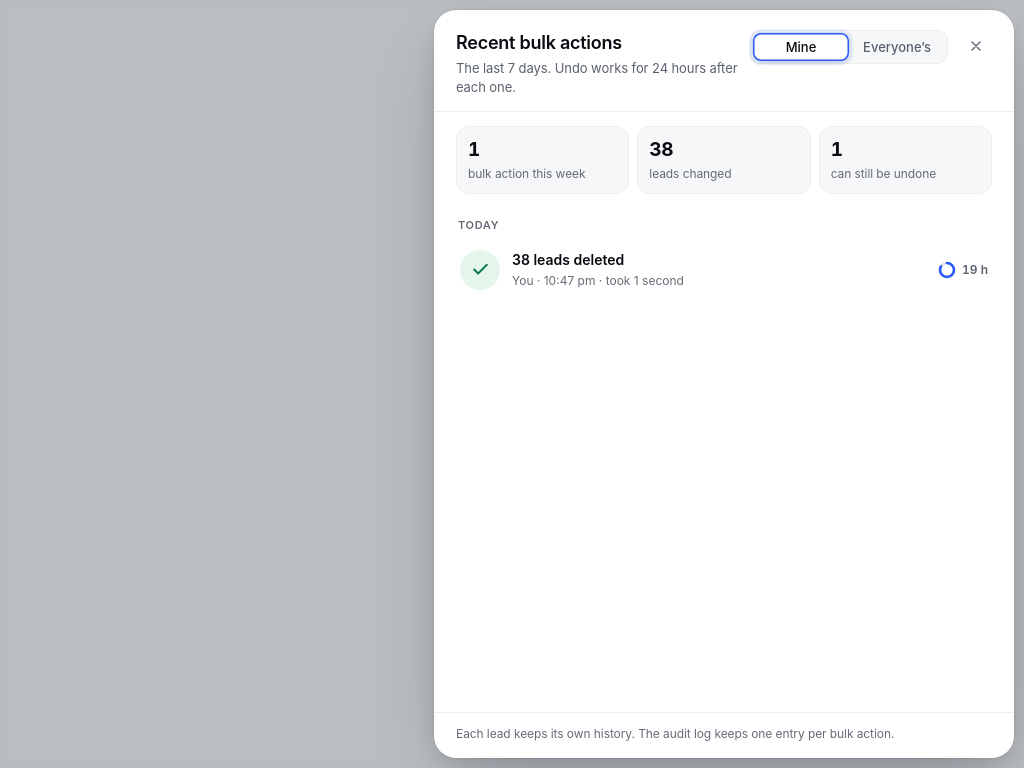
Test: recent bulk actions (7C) › Everyone's shows other people's runs to someone with bulk edits over all leads, and isn't offered to a rep
Click the radio button labelled "Everyone’s": (897, 47) [849,33,945,61]
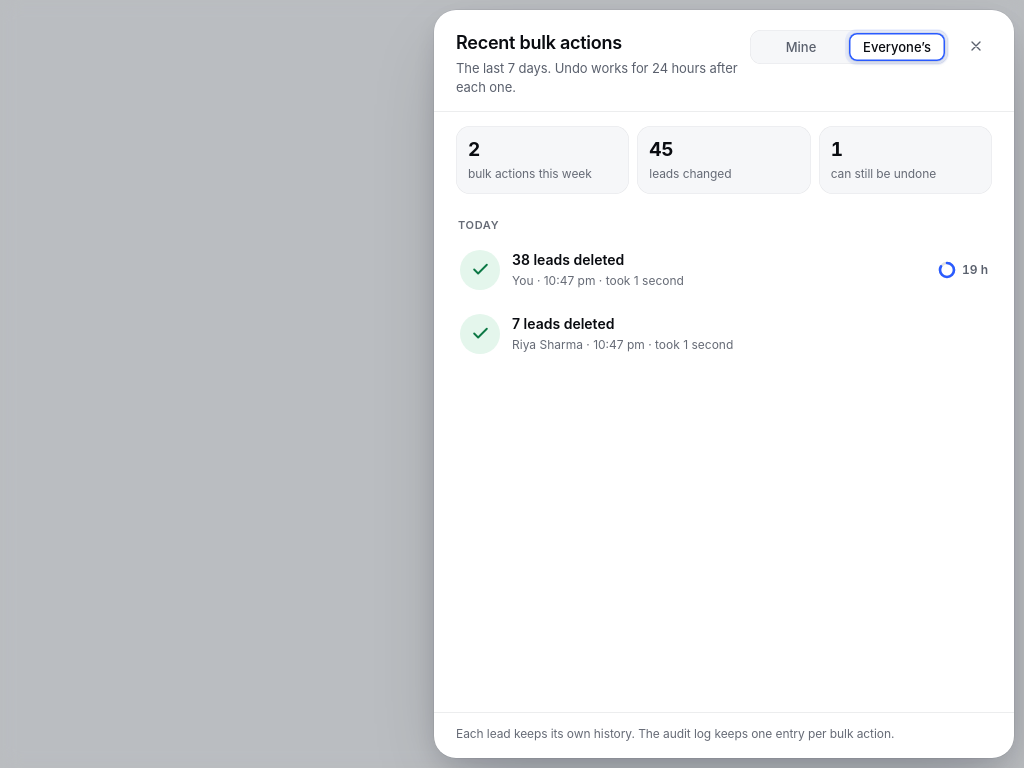
Expected: the text "7 leads deleted" is shown, [512,315,614,332]
